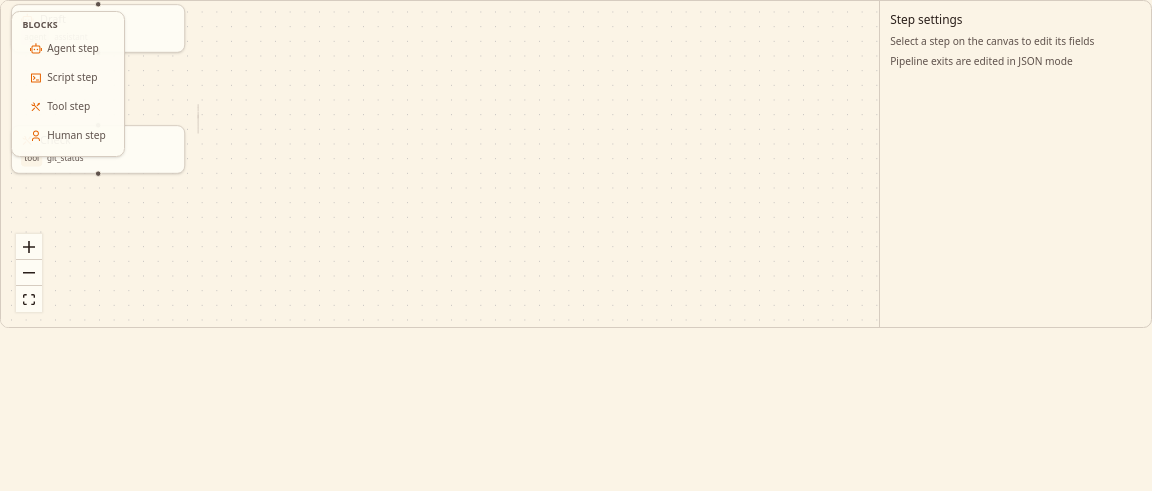
Test: PipelineEditor — палитра: добавление шага › шаг вида «human» появляется на канвасе и попадает в спецификацию
Step 1. Click the button "Human step" → (68, 136), box x1=19 y1=123 x2=117 y2=149
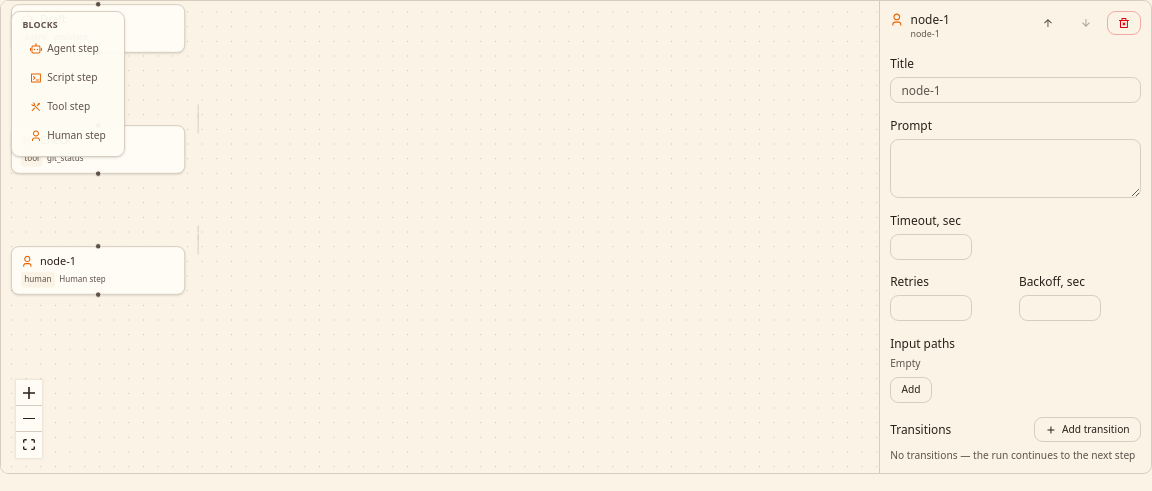
Now the element showing "node-1 human Human step" is shown, box x1=11 y1=246 x2=186 y2=294
Now the text "human" is shown, box x1=21 y1=272 x2=55 y2=287
